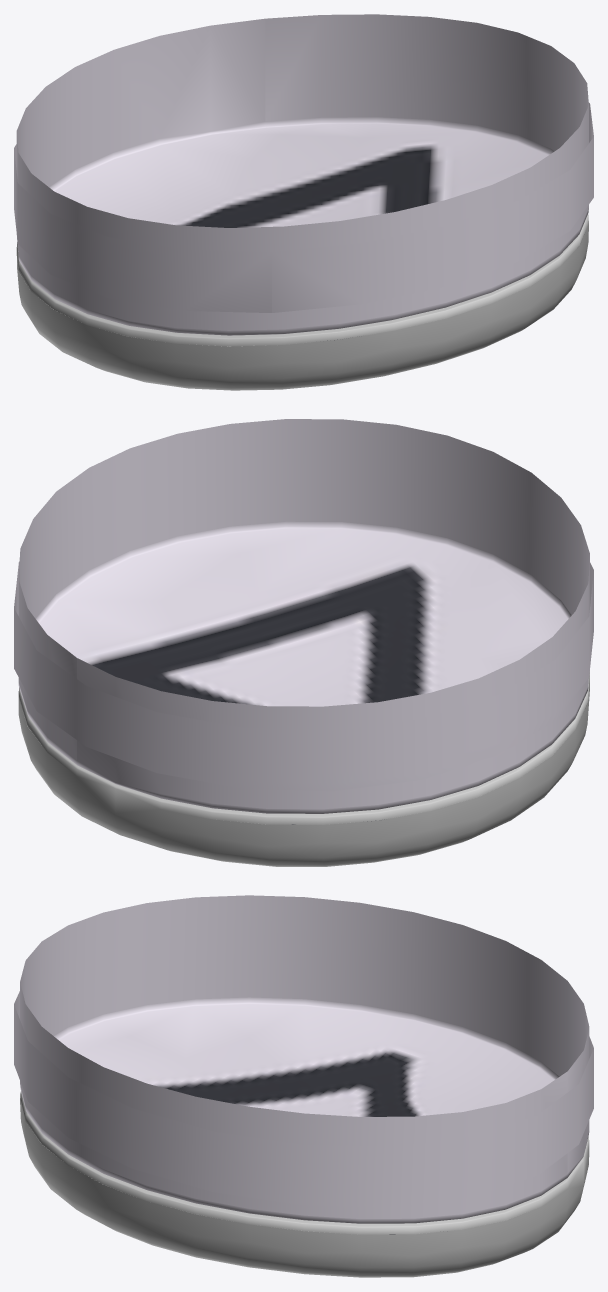
The model's file is btn_triangle.obj.
3 renders of one model, top to bottom at view 1: azimuth 30°, elevation 25°; view 2: azimuth 150°, elevation 25°; view 3: azimuth 270°, elevation 25°, orthographic.
Visible parts, largest first — view 1: btn_triangle; view 2: btn_triangle; view 3: btn_triangle.
Boxes of the visible parts, bbox=[...] form: btn_triangle: bbox=[14, 14, 593, 390]; btn_triangle: bbox=[14, 419, 593, 866]; btn_triangle: bbox=[14, 895, 593, 1277].
Bounding box in the file's own units: 0.1282 × 0.0531 × 0.1283.
